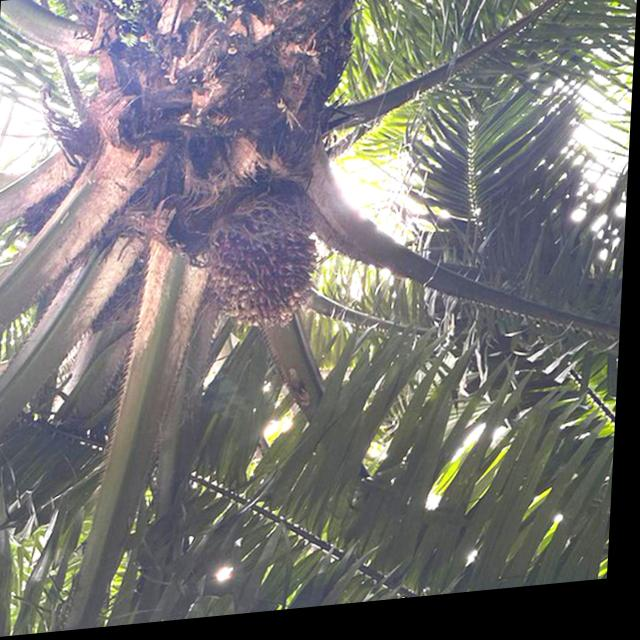ripe: (198, 180, 331, 351)
